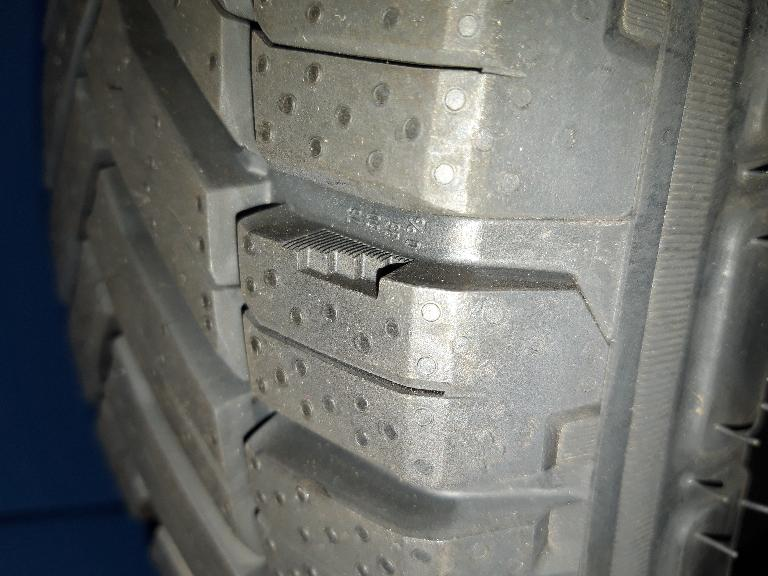temoin:100: (279, 226, 417, 304)
